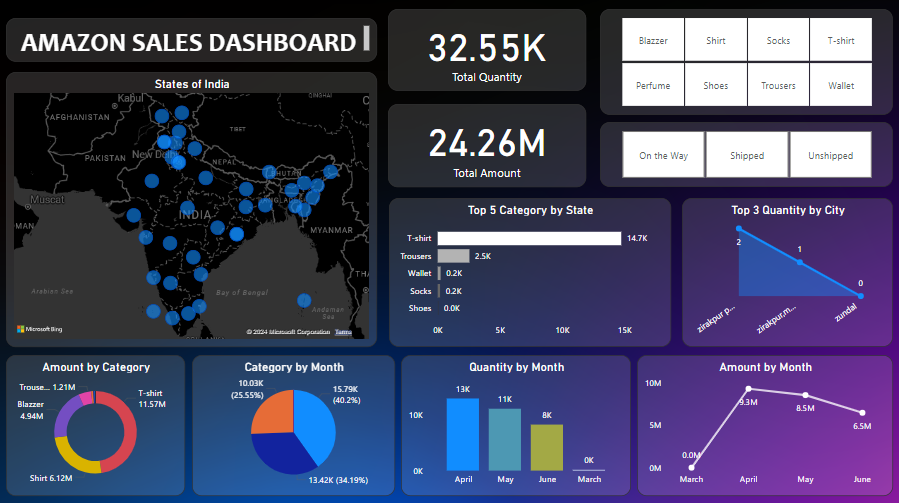

What the dashboard file says about the page in this screenshot:
{"tool":"powerbi","page":{"name":"Page 1","canvas":[1280,720],"ordinal":0},"visuals":[{"type":"donutChart","title":"Amount by Category","fields":{"Y":["Sum(Amazon Sale Report.Amount)"],"Category":["Amazon Sale Report.Category"]},"box":[12.8,504.6,253.7,199.8],"z":0},{"type":"lineChart","title":"Amount by Month","fields":{"Y":["Sum(Amazon Sale Report.Amount)"],"Category":["Amazon Sale Report.Date.Variation.Date Hierarchy.Month"]},"box":[907.1,504.6,362.8,199.8],"z":1000},{"type":"card","fields":{"Values":["Amazon Sale Report.Total Amount"]},"box":[554.2,148.8,280.6,117.6],"z":2000},{"type":"card","fields":{"Values":["Amazon Sale Report.Total Quantity"]},"box":[554.2,14.2,280.6,116.2],"z":3000},{"type":"columnChart","title":"Quantity by Month","fields":{"Category":["Amazon Sale Report.Month"],"Y":["Sum(Amazon Sale Report.Quantity)"]},"box":[572.6,504.6,326,199.8],"z":4000},{"type":"map","title":"States of India","fields":{"Category":["Amazon Sale Report.ship-state"]},"box":[12.8,103.5,525.8,389.8],"z":5000},{"type":"clusteredBarChart","title":"Top 5 Category by State","fields":{"Category":["Amazon Sale Report.Category"],"Y":["CountNonNull(Amazon Sale Report.ship-state)"]},"box":[555.6,282,399.7,211.2],"z":6000},{"type":"slicer","fields":{"Values":["Amazon Sale Report.Category"]},"box":[854.6,14.2,415.3,150.2],"z":7000},{"type":"pieChart","title":"Category by Month","fields":{"Category":["Amazon Sale Report.Month"],"Y":["CountNonNull(Amazon Sale Report.Category)"]},"box":[276.4,504.6,287.7,199.8],"z":8000},{"type":"areaChart","title":"Top 3 Quantity by City","fields":{"Y":["Sum(Amazon Sale Report.Quantity)"],"Category":["Amazon Sale Report.ship-city"]},"box":[970.9,282,299.1,211.2],"z":9000},{"type":"slicer","fields":{"Values":["Amazon Sale Report.Courier Status"]},"box":[854.6,174.3,415.3,92.1],"z":10000},{"type":"textbox","box":[12.8,26.9,525.8,62.4],"z":11000}]}

Visuals, with their boxes in screenshot pixels (x1, y1, x2, y2), scaled from the page's 1280x720 canvas onto the 899x503 screenshot:
"Amount by Category" donutChart: [9,353,187,492]
"Amount by Month" lineChart: [637,353,892,492]
card - Amazon Sale Report.Total Amount: [389,104,586,186]
card - Amazon Sale Report.Total Quantity: [389,10,586,91]
"Quantity by Month" columnChart: [402,353,631,492]
"States of India" map: [9,72,378,345]
"Top 5 Category by State" clusteredBarChart: [390,197,671,345]
slicer - Amazon Sale Report.Category: [600,10,892,115]
"Category by Month" pieChart: [194,353,396,492]
"Top 3 Quantity by City" areaChart: [682,197,892,345]
slicer - Amazon Sale Report.Courier Status: [600,122,892,186]
textbox: [9,19,378,62]
